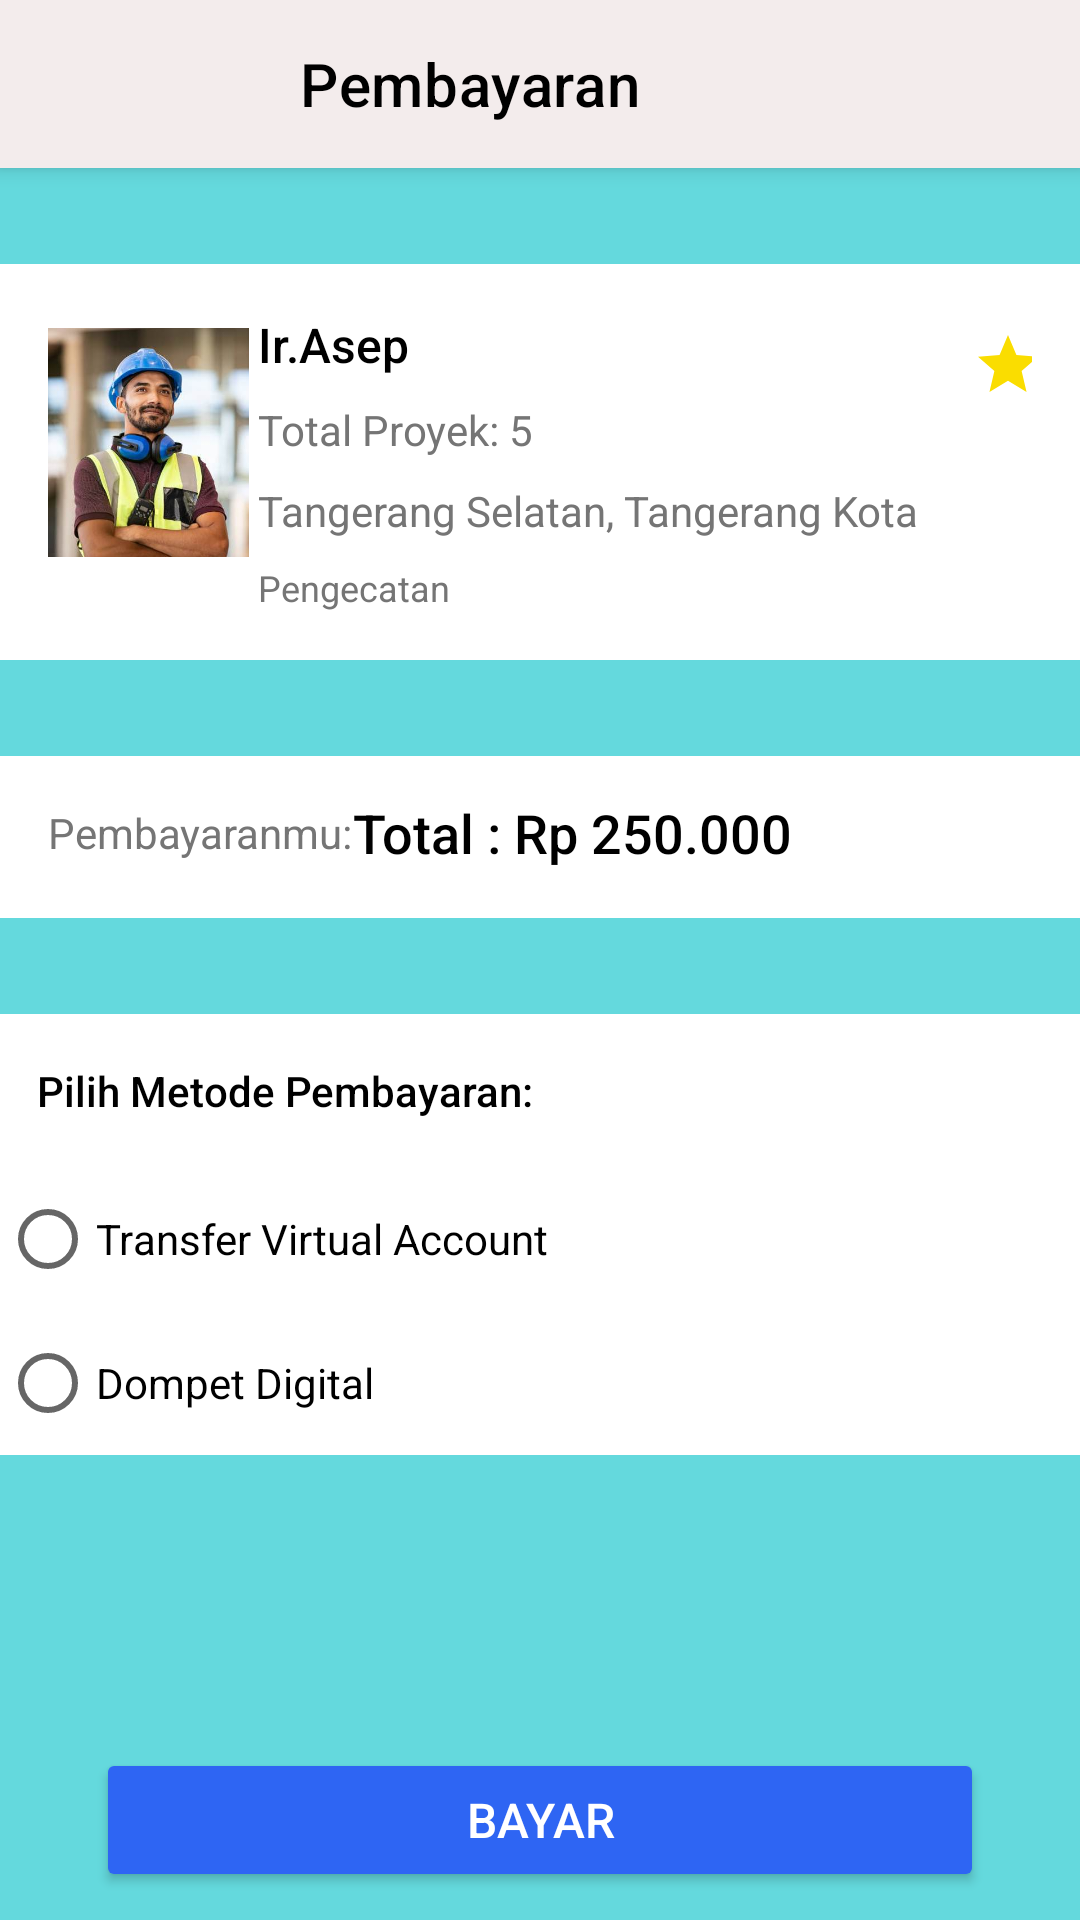

Icon click points for this 1080 × 1920 phone screenshot, format (x=x, y=y):
Profile Picture: (x=148, y=442)
star: (x=1005, y=363)
